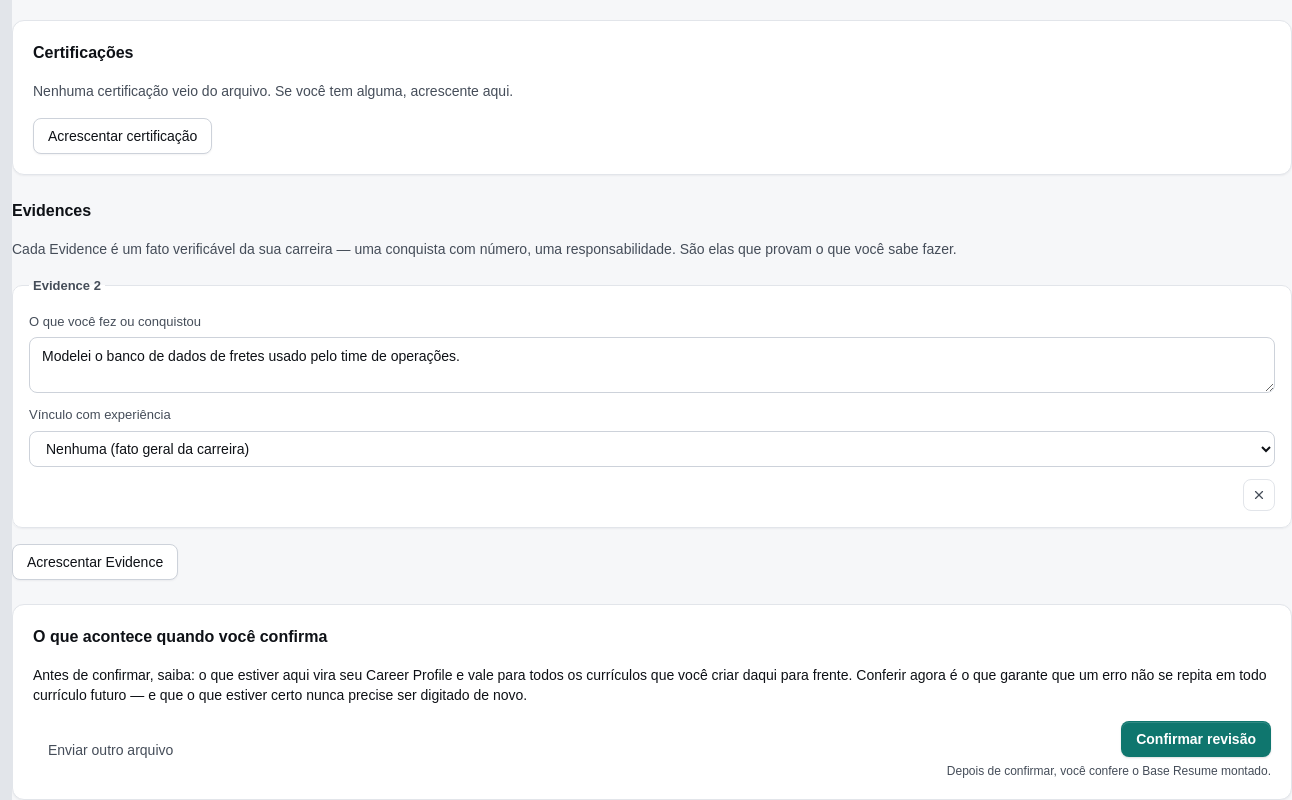
Test case: ReviewScreen › should say which date formats work when confirming fails on a date
(page scrolled)
Click the button "Confirmar revisão". click: (1196, 738)
box: [1121,720,1271,756]
(page scrolled)
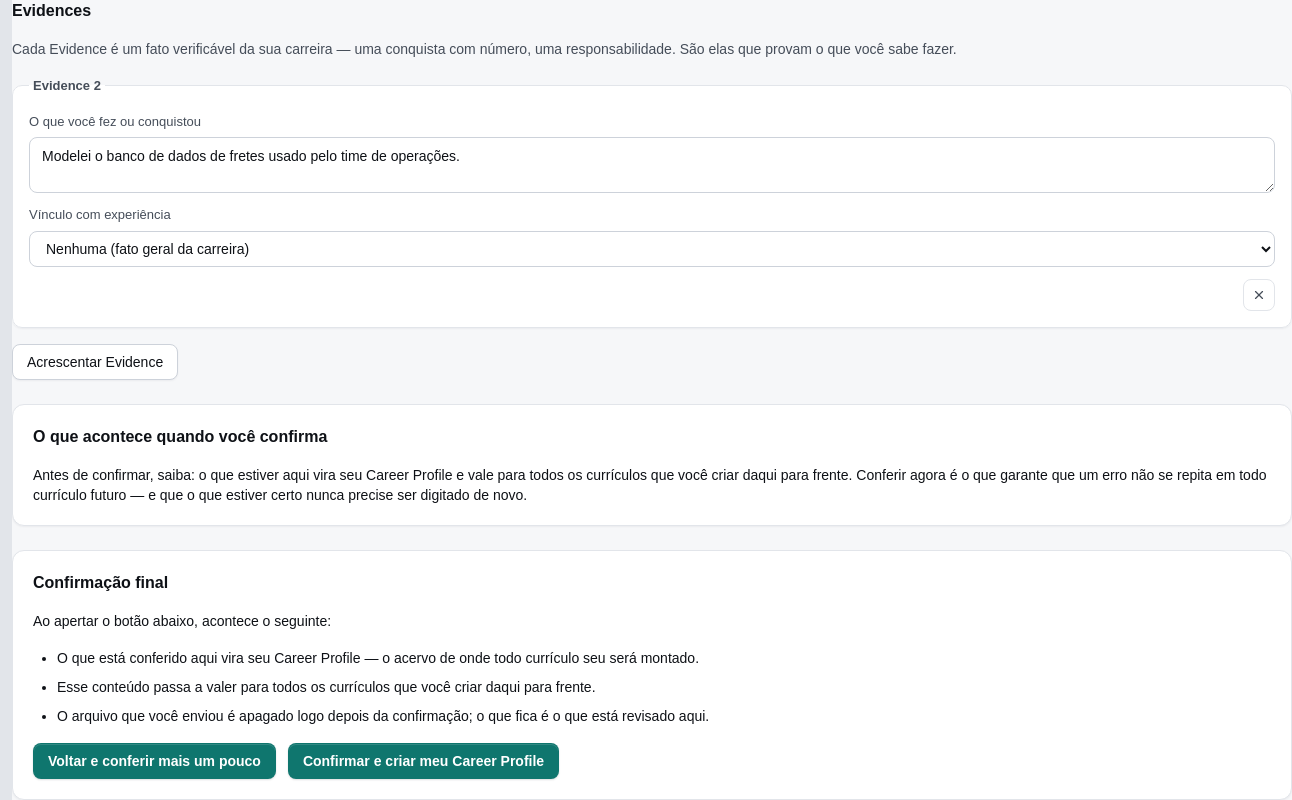
Click the button "Confirmar e criar meu Career Profile". click: (424, 760)
box: [288,742,559,778]
(page scrolled)
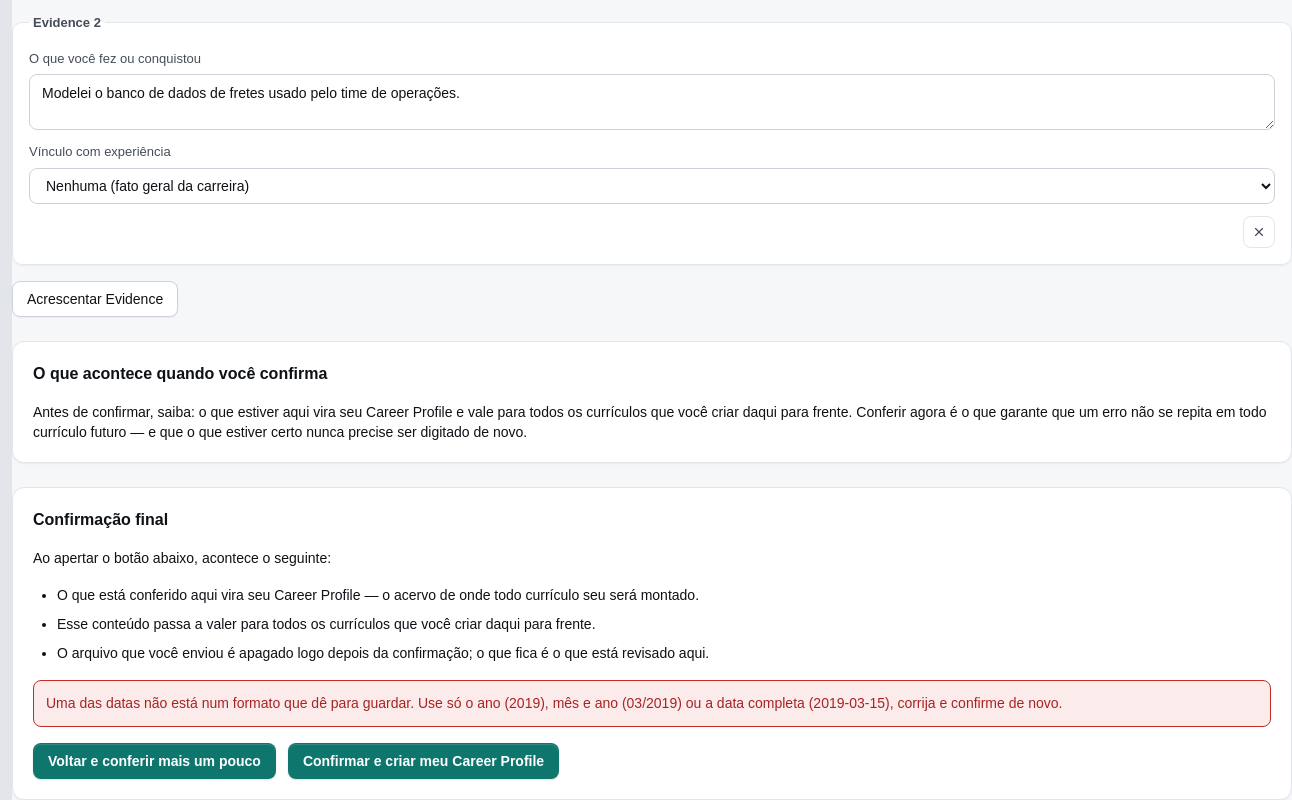
Check: the button "Confirmar e criar meu Career Profile" is enabled, box [288,742,559,778]
Check: the message shows "Uma das datas não está num formato que dê para guardar. Use só o ano (2019), mês e ano (03/2019) ou a data completa (2019-03-15), corrija e confirme de novo.", box [46,694,1062,710]
